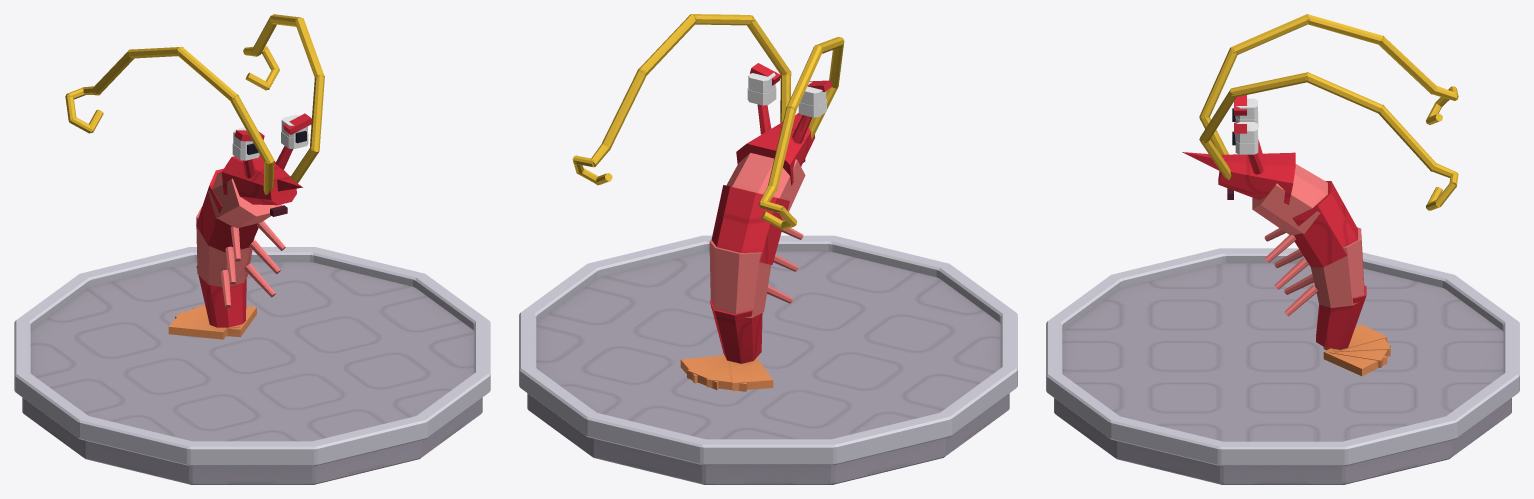
Rendered from WhiskerShrimp.fbx.
3 renders of one model, left to right at view 1: azimuth 30°, elevation 25°; view 2: azimuth 150°, elevation 25°; view 3: azimuth 270°, elevation 25°, orthographic. The views are drawn at different scales.
Visible parts, largest first — view 1: Art_WhiskerShrimp_Stand, Art_WhiskerShrimp_Head, Art_WhiskerShrimp_Body; view 2: Art_WhiskerShrimp_Stand, Art_WhiskerShrimp_Body, Art_WhiskerShrimp_Head; view 3: Art_WhiskerShrimp_Stand, Art_WhiskerShrimp_Body, Art_WhiskerShrimp_Head.
Boxes of the visible parts, bbox=[...] form: Art_WhiskerShrimp_Stand: bbox=[14, 247, 490, 484]; Art_WhiskerShrimp_Head: bbox=[65, 14, 324, 216]; Art_WhiskerShrimp_Body: bbox=[168, 168, 285, 339]; Art_WhiskerShrimp_Stand: bbox=[519, 235, 1017, 484]; Art_WhiskerShrimp_Body: bbox=[680, 153, 805, 391]; Art_WhiskerShrimp_Head: bbox=[572, 14, 844, 230]; Art_WhiskerShrimp_Stand: bbox=[1046, 248, 1519, 484]; Art_WhiskerShrimp_Body: bbox=[1252, 164, 1390, 376]; Art_WhiskerShrimp_Head: bbox=[1182, 14, 1458, 210].
Size of the model in its own units: 2.9 by 2.33 by 2.9.
